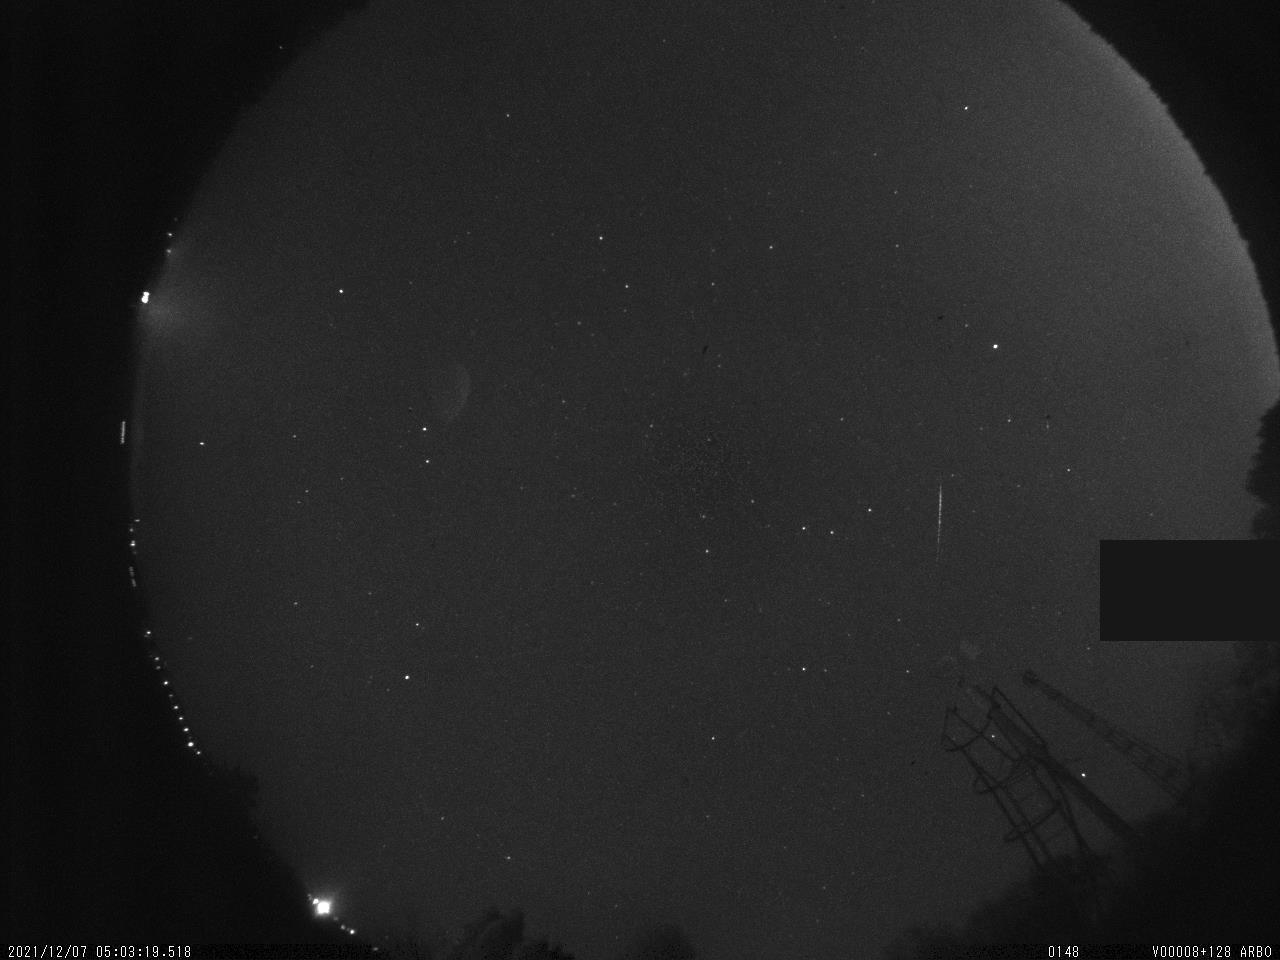meteor: (909, 469, 975, 579)
